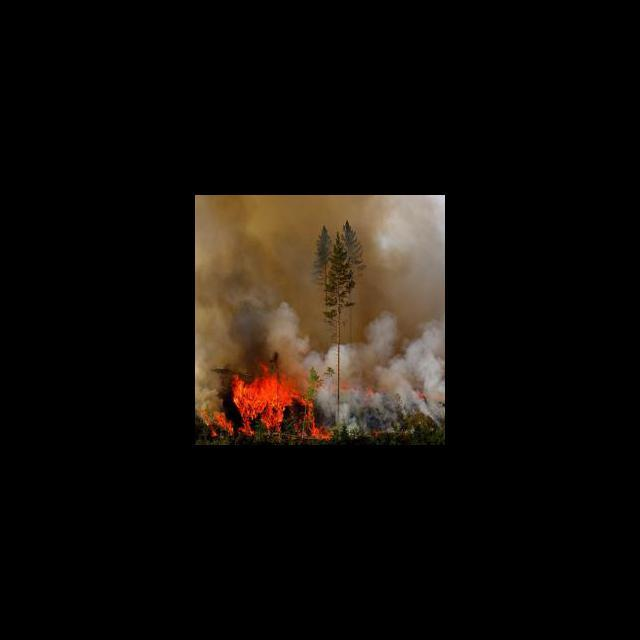Fire: (200, 360, 334, 439)
Smoke: (196, 196, 313, 360), (338, 313, 444, 432)
